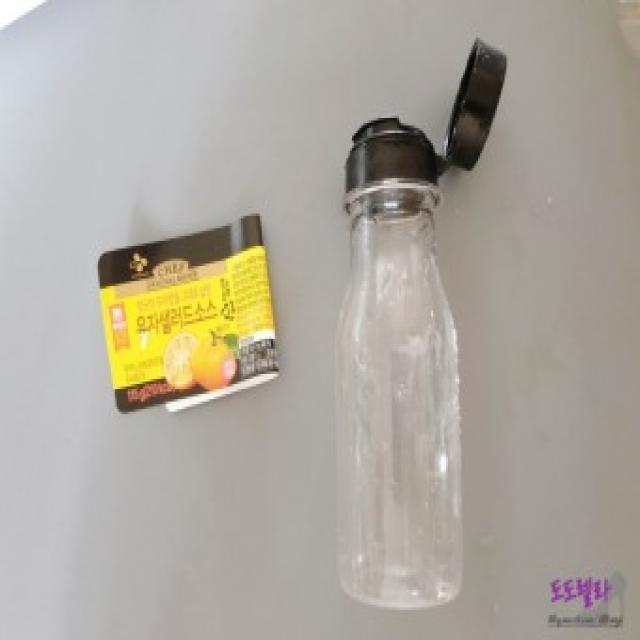BotolPlastik: (313, 29, 504, 598)
